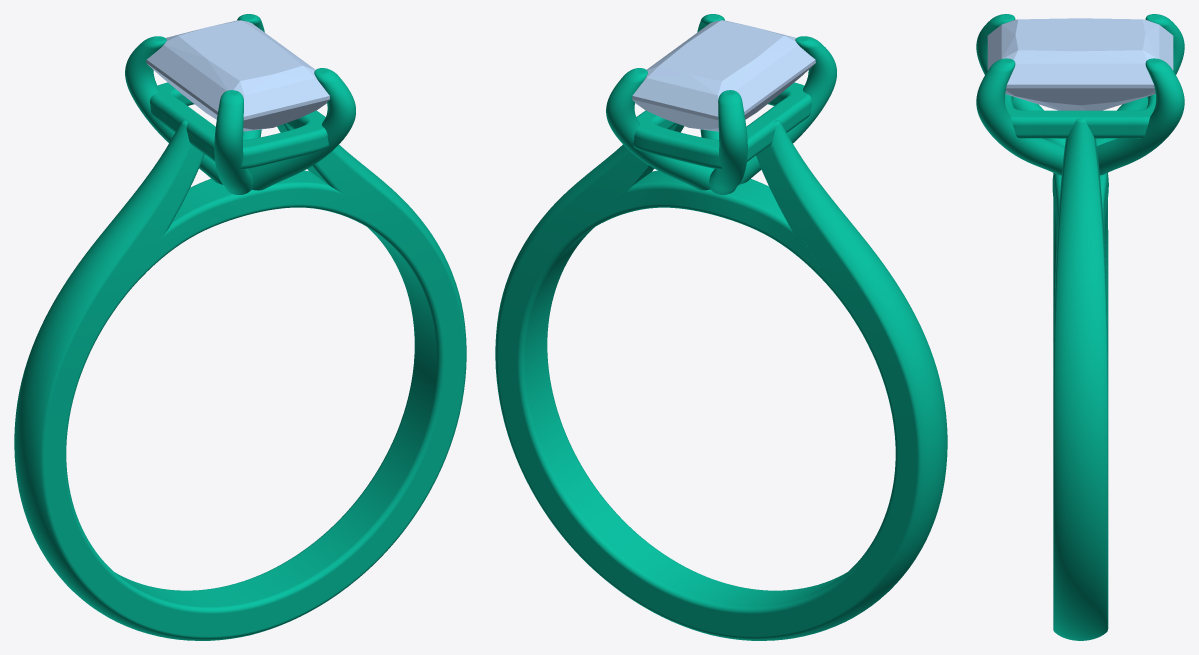
3 views of the same model, side by side, from view 1: azimuth 30°, elevation 25°; view 2: azimuth 150°, elevation 25°; view 3: azimuth 270°, elevation 25° (orthographic).
Parts seen in each view (by area): view 1: VR-96(front).3dm, Diamond_Radiant; view 2: VR-96(front).3dm, Diamond_Radiant; view 3: VR-96(front).3dm, Diamond_Radiant.
Part boxes in pixels (x1,y1,x2,y2): VR-96(front).3dm: [14, 14, 466, 640]; Diamond_Radiant: [146, 20, 329, 131]; VR-96(front).3dm: [495, 14, 947, 640]; Diamond_Radiant: [632, 20, 815, 131]; VR-96(front).3dm: [976, 14, 1184, 640]; Diamond_Radiant: [987, 18, 1173, 110].
Size of the model in its own units: 2.41 by 3.04 by 0.9846.
